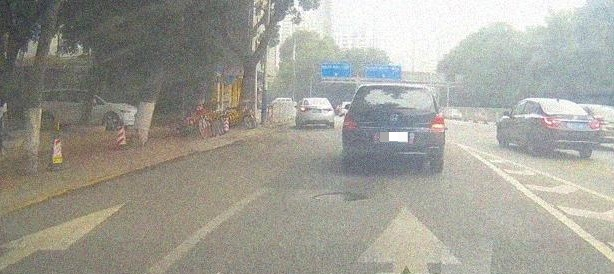L_light: (344, 113, 358, 128), (542, 116, 559, 127)
R_light: (432, 115, 445, 129), (590, 120, 600, 129)
T_light: (389, 86, 403, 89), (556, 101, 567, 104)
day-no: (540, 99, 600, 157)
day-right: (343, 84, 445, 167)
plate_1: (380, 132, 408, 142)
